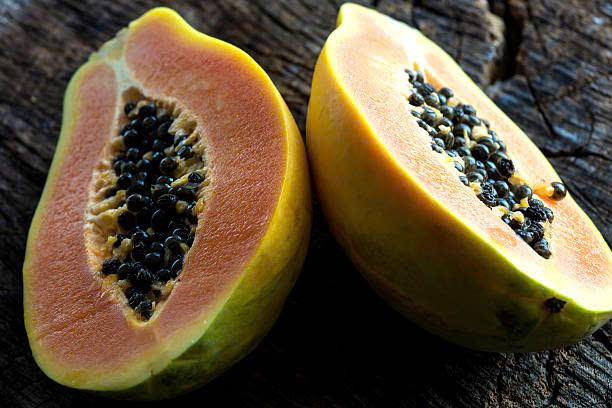papaya: (302, 4, 612, 390), (23, 5, 313, 408)
